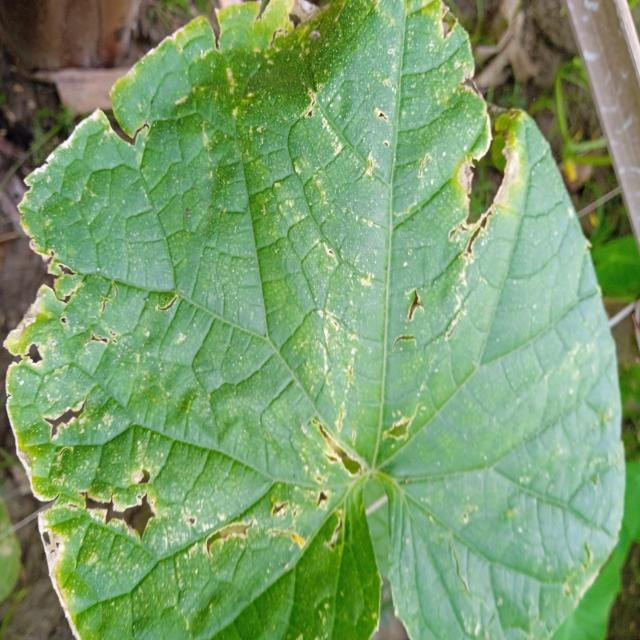cucumber_anthracnose: (27, 10, 568, 640)
